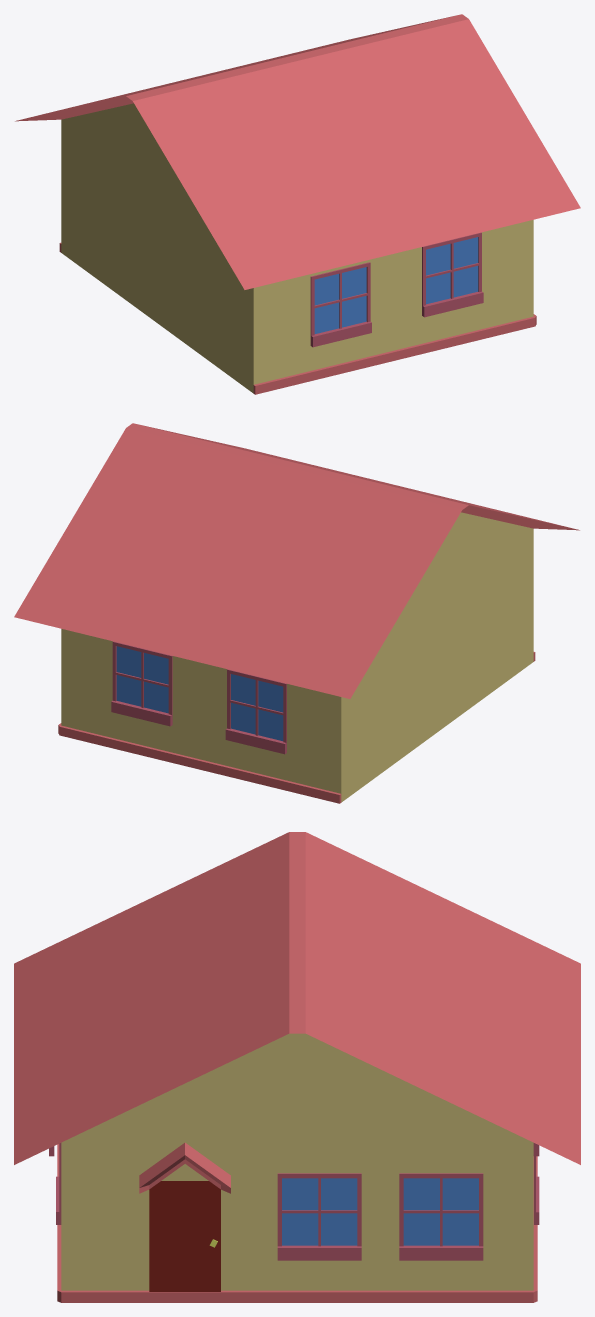
Rendered from concrete_house2.fbx.
3 renders of one model, top to bottom at view 1: azimuth 30°, elevation 25°; view 2: azimuth 150°, elevation 25°; view 3: azimuth 270°, elevation 25°, orthographic. The views are drawn at different scales.
Visible parts, largest first — view 1: Concrete House_2; view 2: Concrete House_2; view 3: Concrete House_2.
Part boxes in pixels (<box>): Concrete House_2: <box>15,14,580,394</box>; Concrete House_2: <box>14,423,579,803</box>; Concrete House_2: <box>14,832,580,1302</box>.
Bounding box in the file's own units: 5.88 × 3.87 × 6.99.
